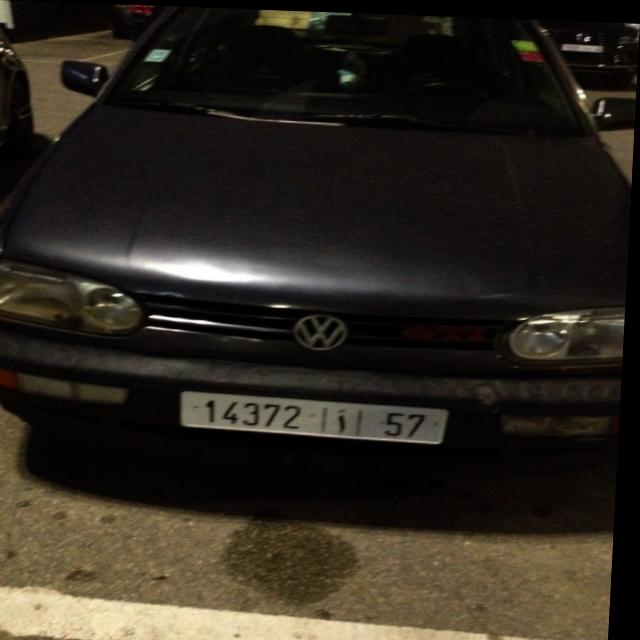License-Plate: (184, 390, 454, 440)
